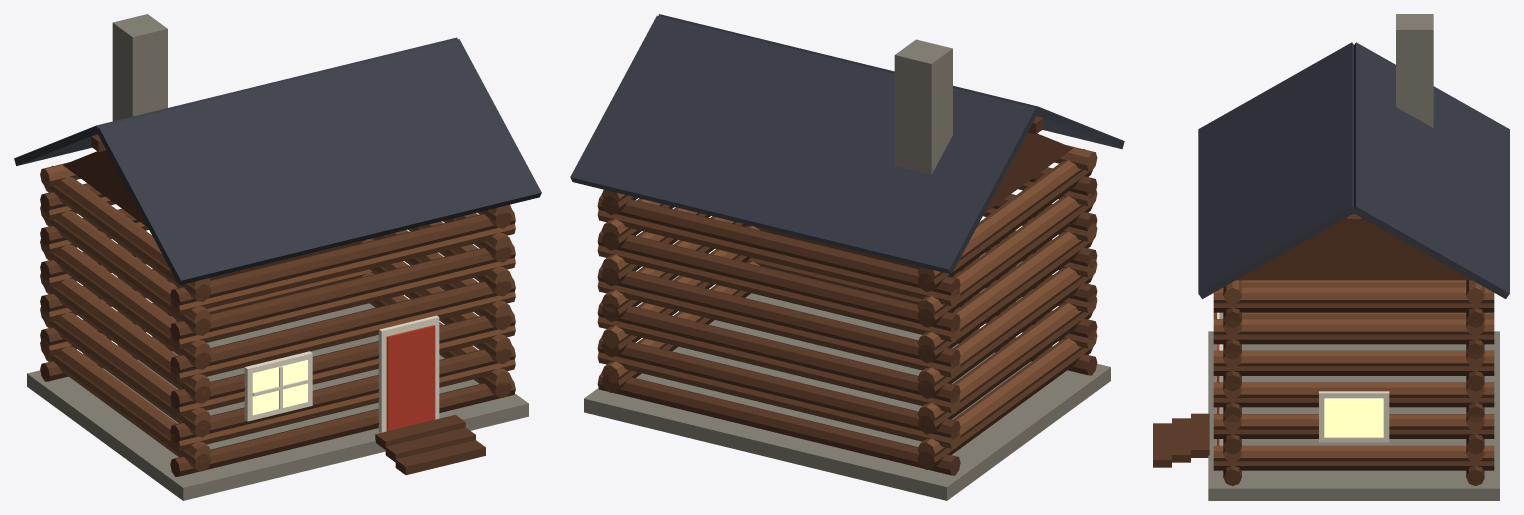
Rendered from cabin.glb.
The picture shows the model from 3 angles, left to right: view 1: azimuth 30°, elevation 25°; view 2: azimuth 150°, elevation 25°; view 3: azimuth 270°, elevation 25°; orthographic projection. The views are drawn at different scales.
Parts seen in each view (by area): view 1: cabin; view 2: cabin; view 3: cabin.
Part boxes in pixels (left/top/right/bottom): cabin: left=14, top=14, right=541, bottom=500; cabin: left=570, top=14, right=1124, bottom=500; cabin: left=1153, top=14, right=1509, bottom=500.
Size of the model in its own units: 7.3 by 7.2 by 6.61.
